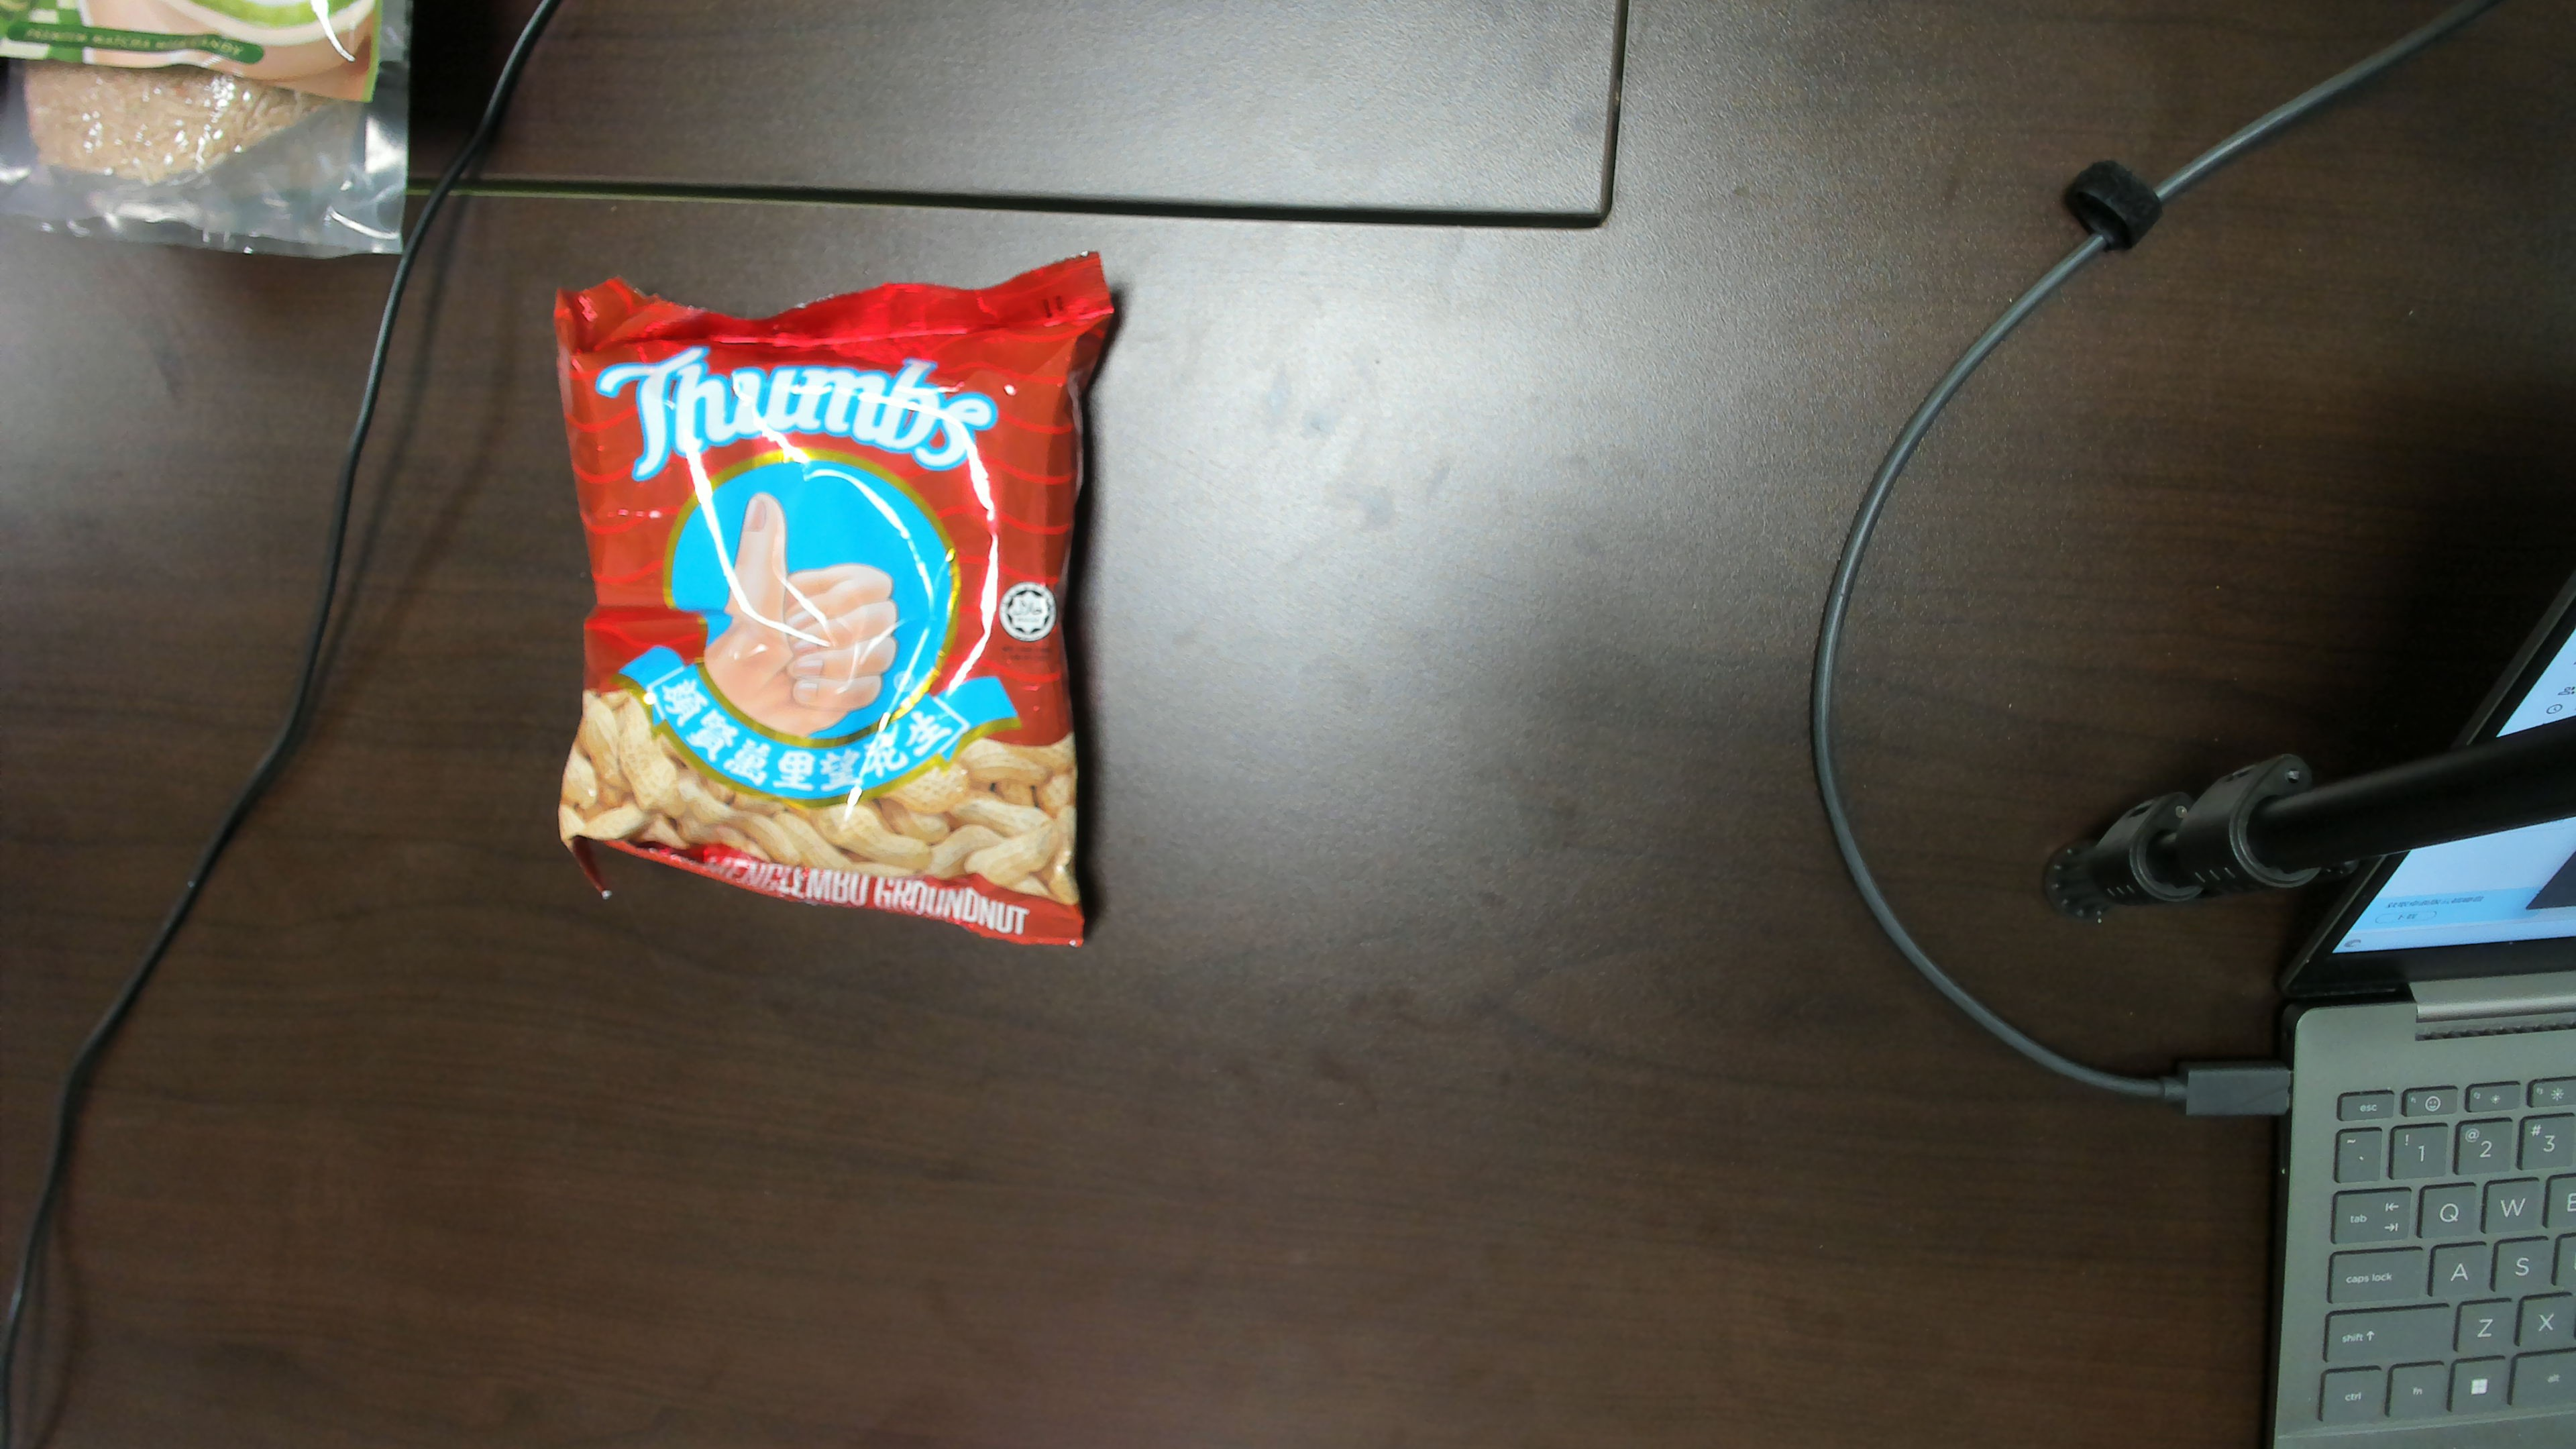Nuts_100-199g_Halal_NonHealthy: (594, 345, 1060, 858)
